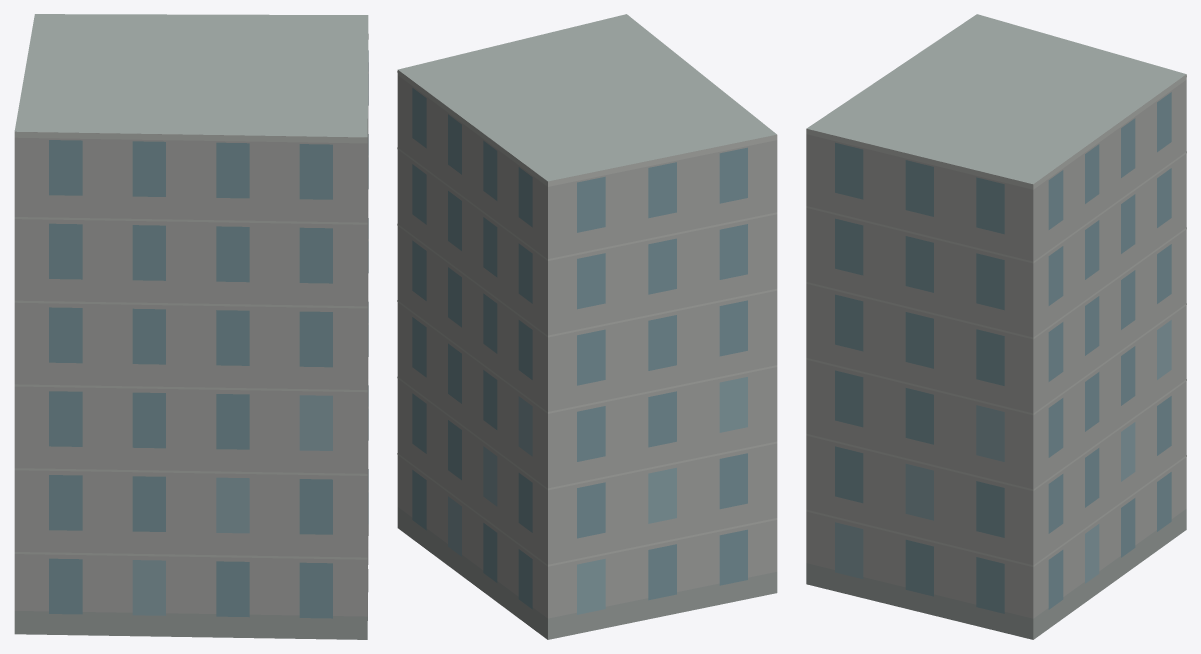
The model's file is survey-upis-32906023.glb.
3 views of the same model, side by side, from view 1: azimuth 30°, elevation 25°; view 2: azimuth 150°, elevation 25°; view 3: azimuth 270°, elevation 25° (orthographic). The views are drawn at different scales.
Parts seen in each view (by area): view 1: survey-upis-32906023.tmp; view 2: survey-upis-32906023.tmp; view 3: survey-upis-32906023.tmp.
Boxes of the visible parts, x1=… form: survey-upis-32906023.tmp: x1=14, y1=14, x2=368, y2=639; survey-upis-32906023.tmp: x1=397, y1=14, x2=777, y2=639; survey-upis-32906023.tmp: x1=806, y1=14, x2=1186, y2=639.
Size of the model in its own units: 16.38 by 20.4 by 15.45.
